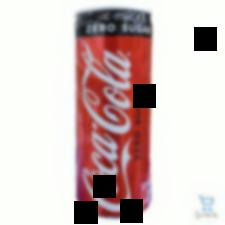cocacola_zero: (70, 4, 156, 222)
